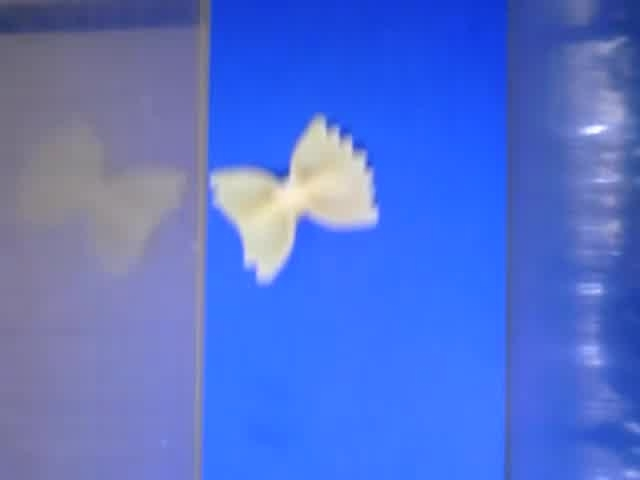farfalle: (209, 114, 381, 284)
